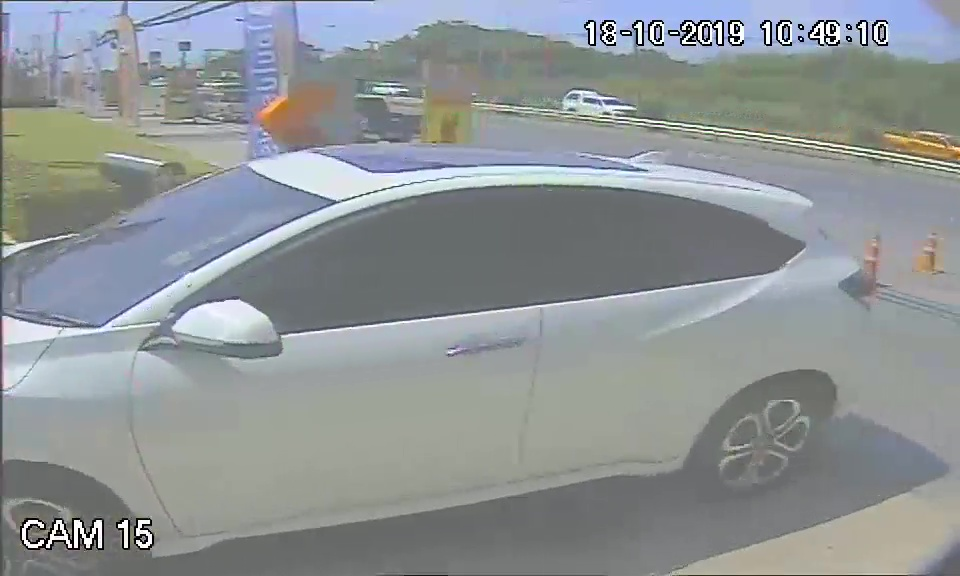pickup: (2, 141, 876, 549)
